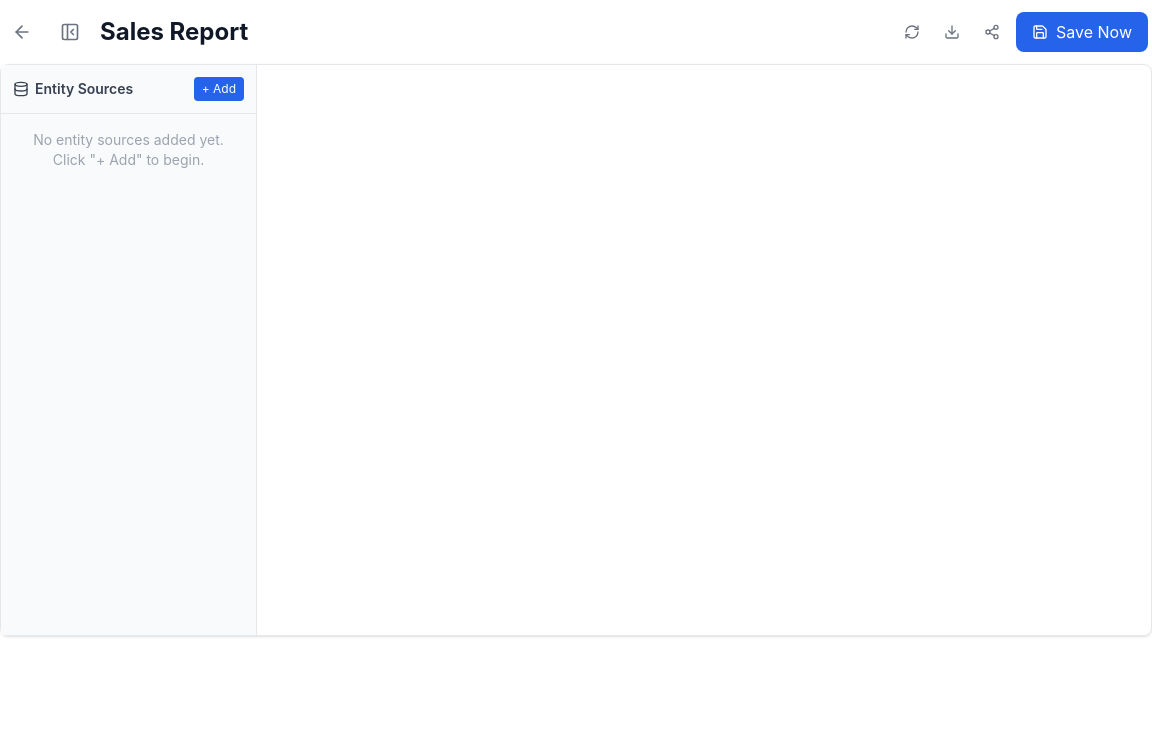
Test case: RfSheetPage — autosave › shows validation error when title is empty
This screenshot has width=1152, height=732.
Expected: the button "Save Now" is shown, [1016,12,1148,52]
# Clear the title
Clear the field with placeholder "Untitled Sheet" at (292, 32), box [100,16,485,48]
Wait 5100 ms
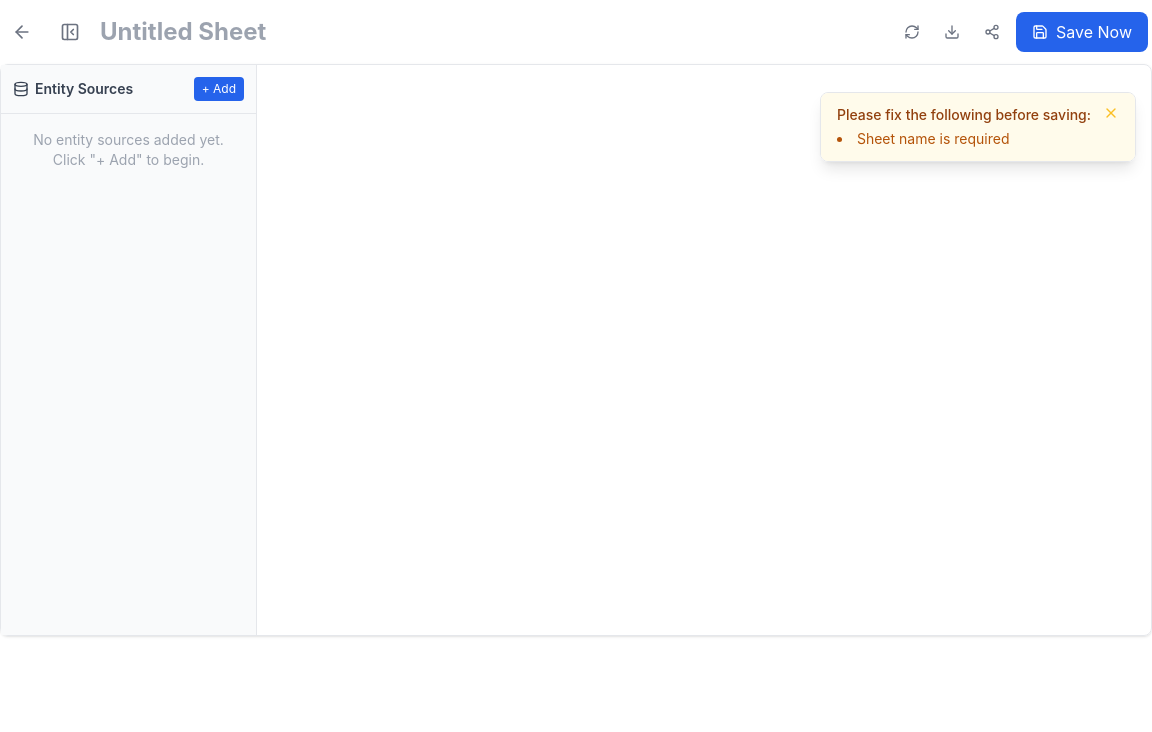
Now the element with test id "autosave-validation-error" is shown, box [821,93,1135,161]
Now the list item "Sheet name is required" is shown, box [857,130,1009,147]
